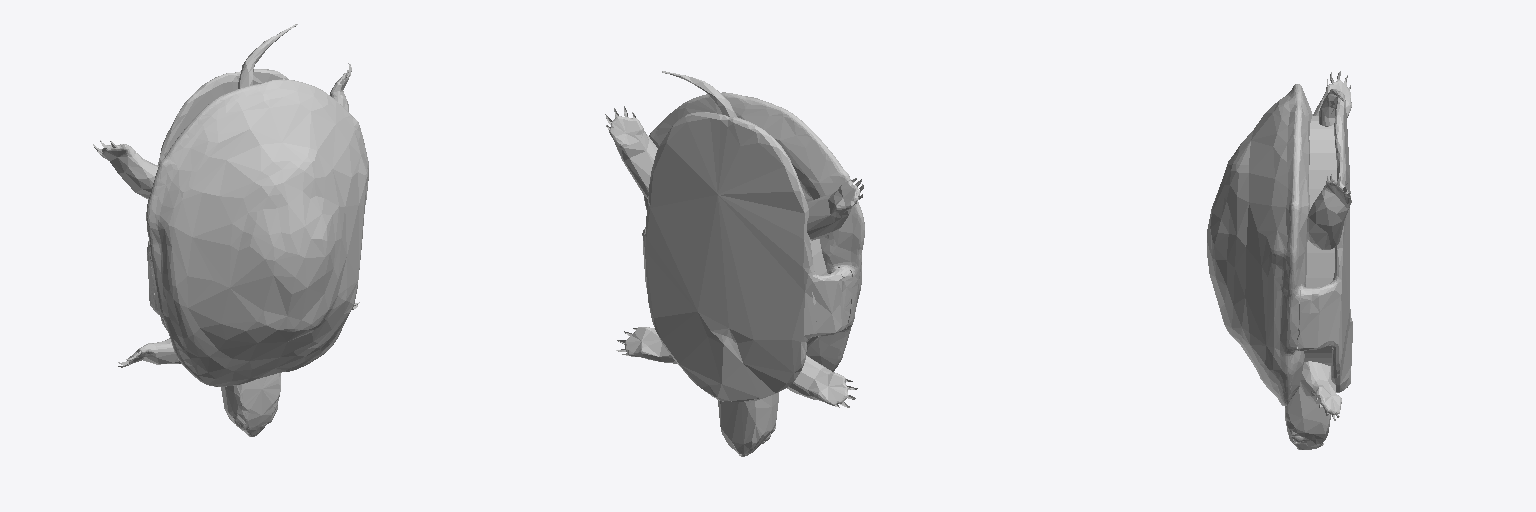
The model's file is uploads_files_2387546_TURTLE.obj.
3 renders of one model, left to right at view 1: azimuth 30°, elevation 25°; view 2: azimuth 150°, elevation 25°; view 3: azimuth 270°, elevation 25°, orthographic.
Parts seen in each view (by area): view 1: turtshe1, turtshe2, turthea2, turtleg2, turthea1, turtleg3, turttail; view 2: turtshe2, turtshe1, turthea1, turtleg1, turtleg2, turtleg3, turtleg4, turttail; view 3: turtshe1, turtshe2, turtback, turtleg1, turthea1, turtleg4, turttail.
Part boxes in pixels (x1,y1,x2,y2): turtshe1: (146, 79, 368, 386); turtshe2: (147, 69, 288, 330); turthea2: (239, 373, 280, 436); turtleg2: (101, 144, 158, 199); turthea1: (221, 373, 280, 436); turtleg3: (127, 338, 180, 364); turttail: (238, 24, 297, 88); turtshe2: (642, 112, 851, 401); turtshe1: (644, 92, 864, 371); turthea1: (718, 392, 778, 456); turtleg1: (609, 116, 657, 198); turtleg2: (807, 180, 860, 240); turtleg3: (787, 355, 848, 405); turtleg4: (625, 327, 676, 363); turttail: (662, 71, 736, 116); turtshe1: (1207, 84, 1312, 405); turtshe2: (1298, 91, 1352, 392); turtback: (1299, 116, 1336, 303); turtleg1: (1307, 179, 1351, 249); turthea1: (1285, 387, 1330, 449); turtleg4: (1300, 361, 1341, 414); turttail: (1319, 89, 1344, 126).
Size of the model in its own units: 295 by 417 by 145.